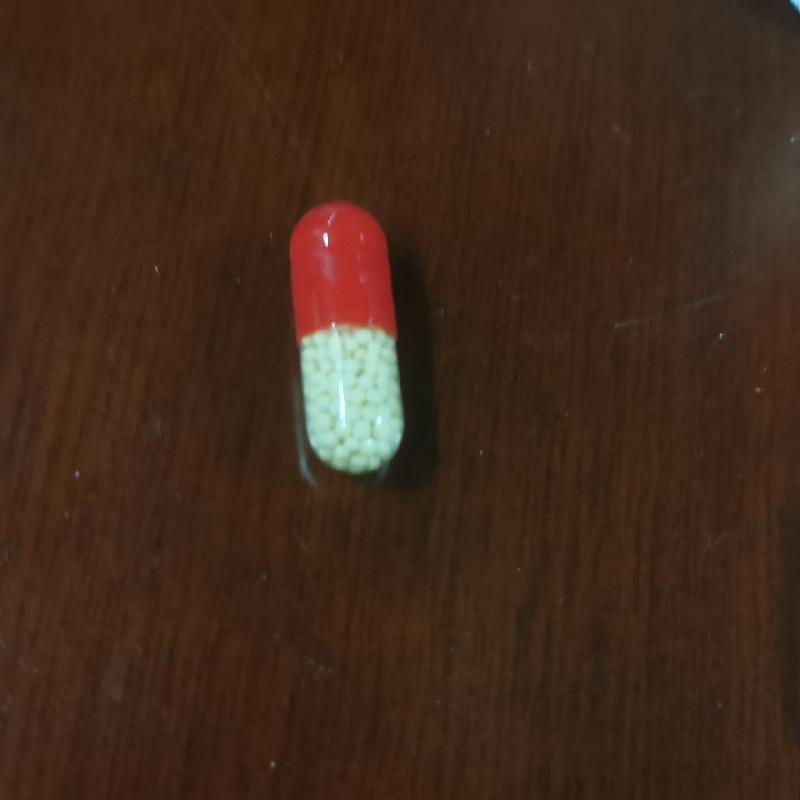pills: (280, 197, 427, 491)
